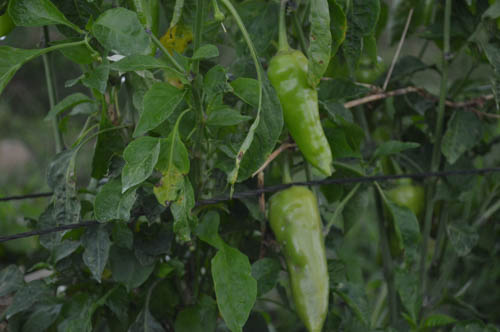ChiliPepper: (271, 185, 331, 328), (275, 53, 334, 177), (380, 183, 417, 253)
